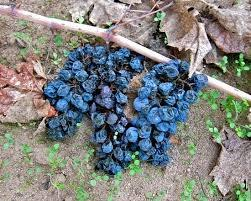Grape Rotten: (43, 44, 207, 176)
